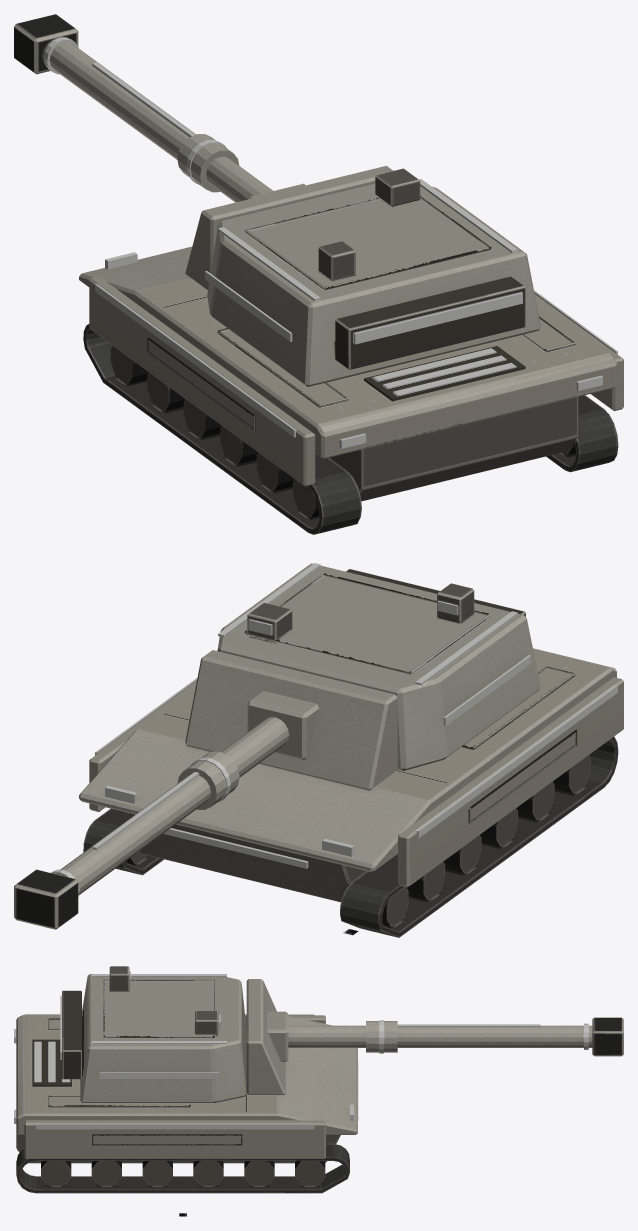
The model's file is ord_paladin.fbx.
The picture shows the model from 3 angles, top to bottom: view 1: azimuth 30°, elevation 25°; view 2: azimuth 150°, elevation 25°; view 3: azimuth 270°, elevation 25°; orthographic projection. The views are drawn at different scales.
Visible parts, largest first — view 1: base_bar, turret_bar, base_glow_running_bar, turret_glow_running_bar, turret_glow_weapon_bar; view 2: base_bar, turret_bar, base_glow_running_bar, turret_glow_running_bar, turret_glow_weapon_bar, base_glow_head_bar; view 3: base_bar, turret_bar, base_glow_running_bar, turret_glow_running_bar, turret_glow_weapon_bar.
Boxes of the visible parts, x1,y1,x2,y2 form: base_bar: [79, 246, 623, 534]; turret_bar: [14, 14, 540, 386]; base_glow_running_bar: [95, 284, 617, 448]; turret_glow_running_bar: [205, 179, 522, 344]; turret_glow_weapon_bar: [44, 37, 226, 184]; base_bar: [79, 648, 623, 937]; turret_bar: [14, 563, 540, 929]; base_glow_running_bar: [95, 677, 617, 868]; turret_glow_running_bar: [216, 563, 530, 725]; turret_glow_weapon_bar: [51, 757, 230, 896]; base_glow_head_bar: [105, 785, 354, 856]; base_bar: [16, 1014, 357, 1193]; turret_bar: [62, 966, 623, 1102]; base_glow_running_bar: [14, 1014, 358, 1129]; turret_glow_running_bar: [60, 971, 226, 1078]; turret_glow_weapon_bar: [379, 1020, 588, 1053].
Bounding box in the file's own units: 656 × 625 × 1536.
2 materials, 2 textured.
